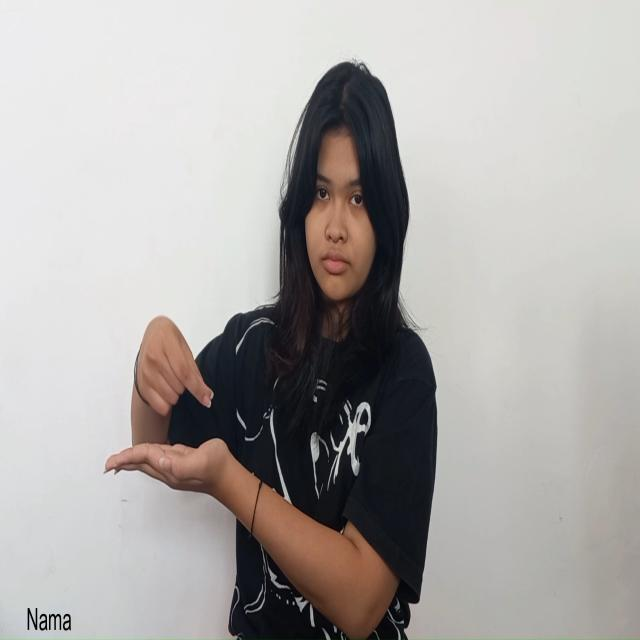Nama -BISINDO-: (102, 314, 230, 502)
